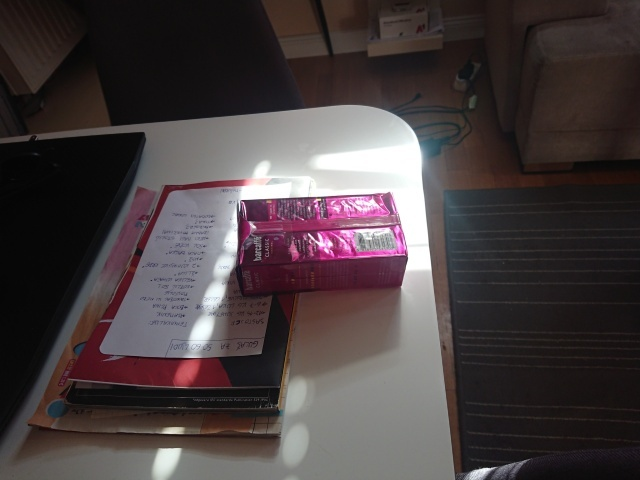Barcaffe Classic Original 225g: (233, 190, 411, 301)
